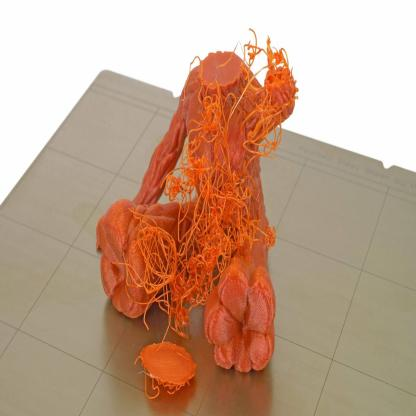fail: (132, 36, 300, 330)
